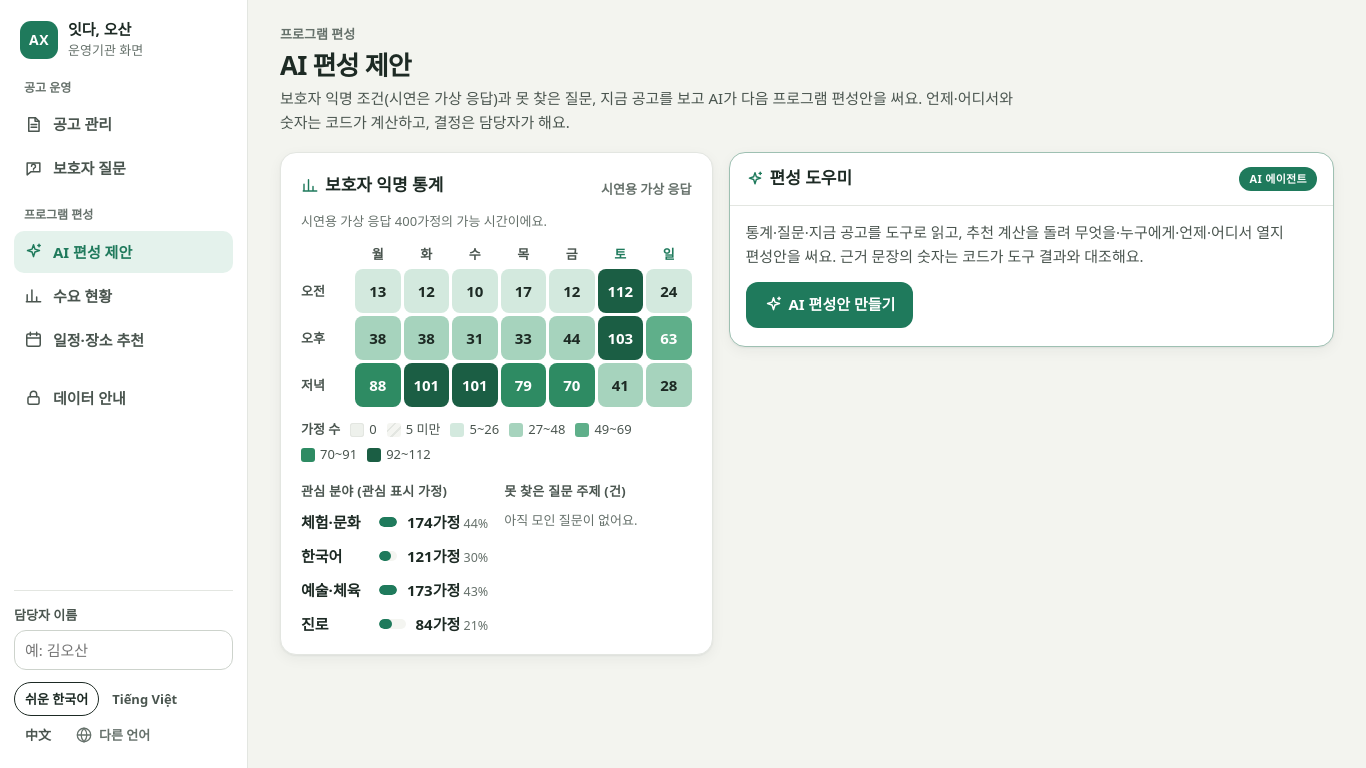
Scenario: AI 편성 제안 › 편성 도우미가 실패하면 서버의 오류 문장을 보여 준다
This screenshot has width=1366, height=768.
Click the button "AI 편성안 만들기".
click(829, 305)  # box x1=746 y1=282 x2=913 y2=328
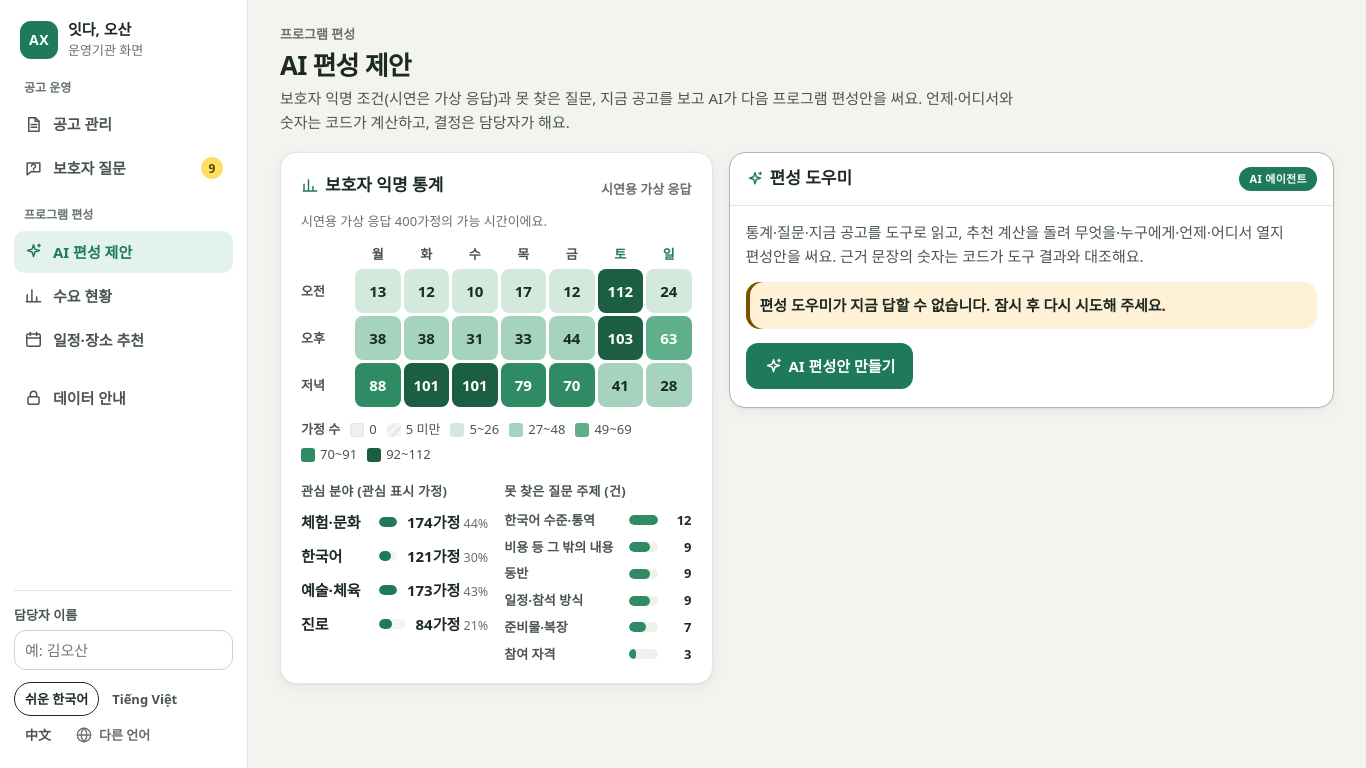
Expected: the text "편성 도우미가 지금 답할 수 없습니다. 잠시 후 다시 시도해 주세요." is shown, x1=760 y1=295 x2=1166 y2=315
